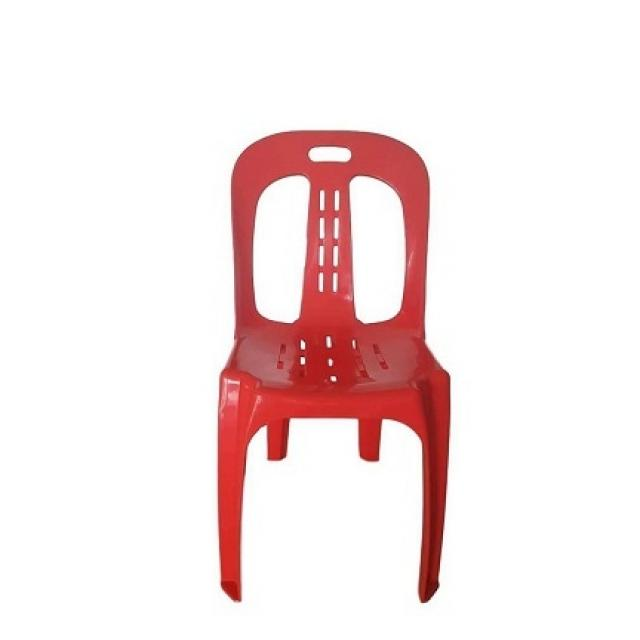Chair: (209, 124, 455, 615)
